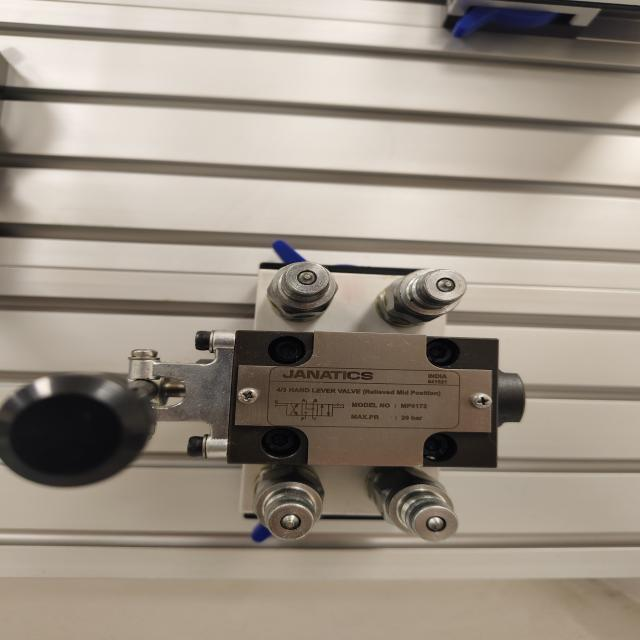4by3 hand lever valve: (0, 231, 533, 560)
